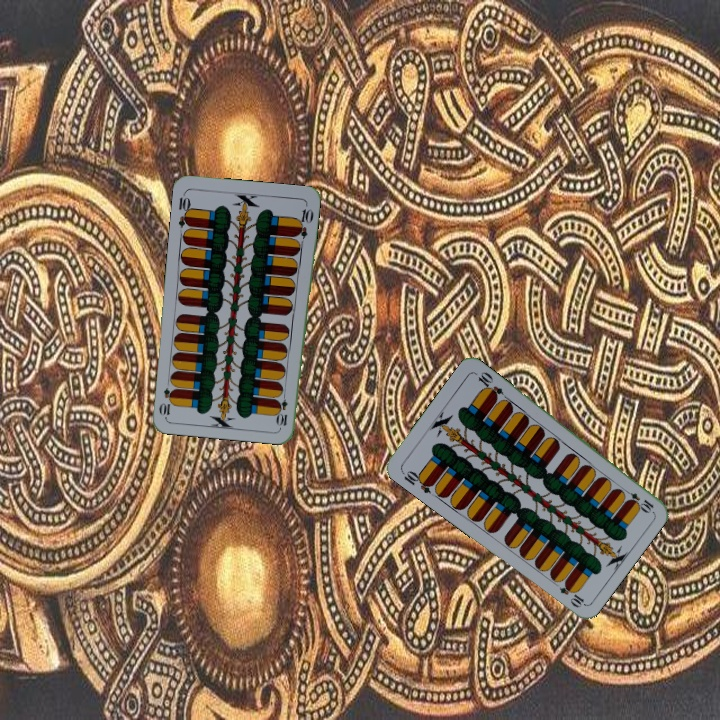E10: (398, 466, 436, 496), (619, 485, 656, 515), (174, 189, 194, 230), (275, 388, 290, 428)
